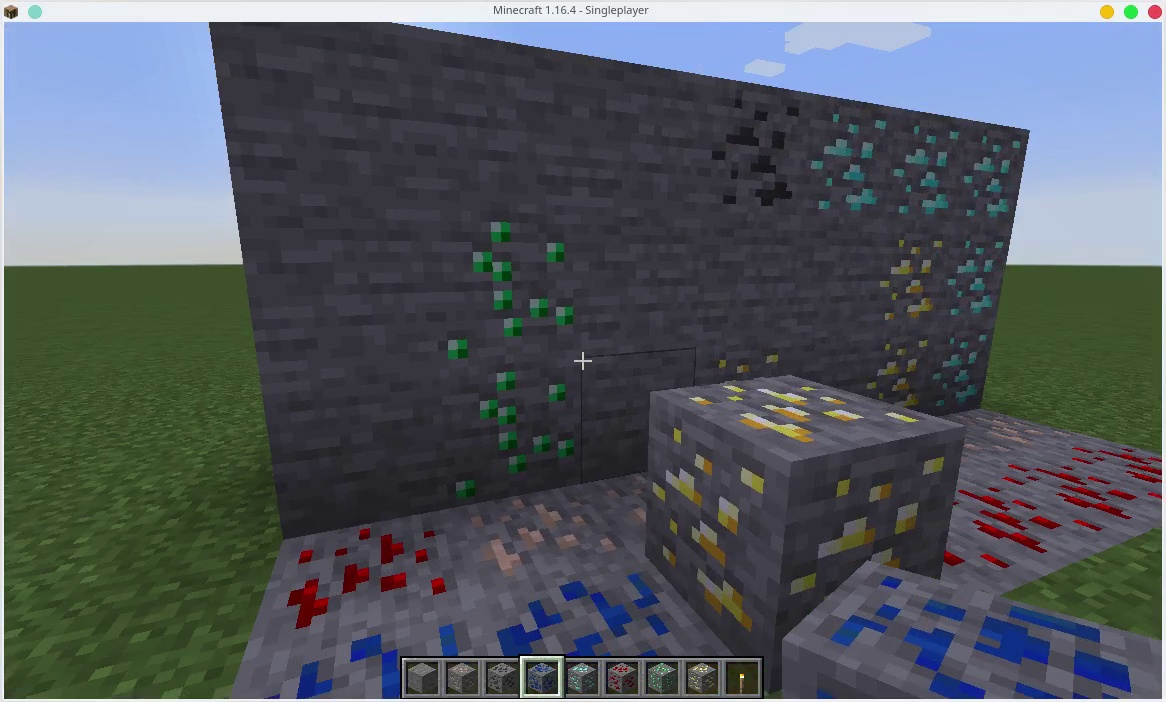gold: (670, 389, 939, 578), (882, 232, 945, 327), (881, 340, 932, 394), (715, 350, 788, 377)
